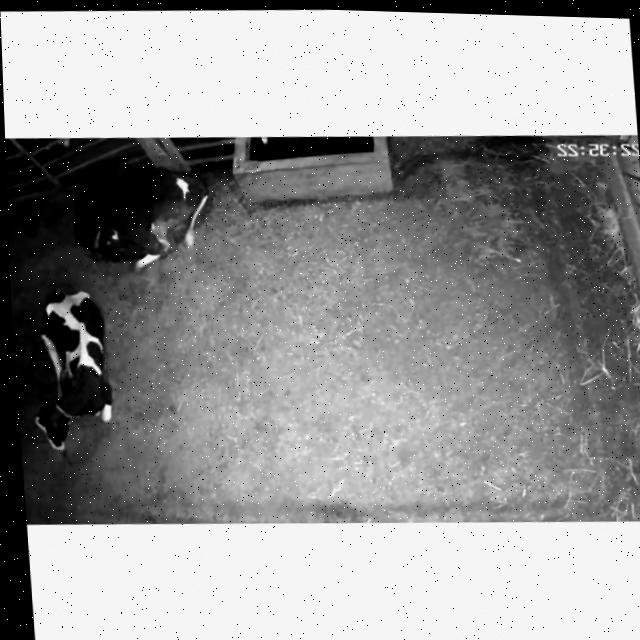lay: (10, 274, 126, 460), (39, 159, 215, 278)
